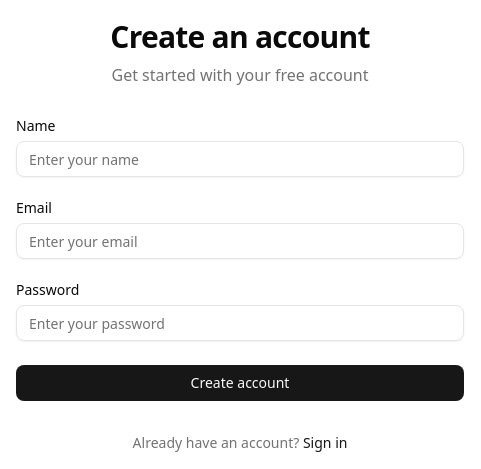
Auth Integration › Register Flow › navigates from register to login
This screenshot has width=481, height=469.
Expected: the heading "Create an account" is shown, [110,16,370,57]
Step 1. Click the link "Sign in" → (325, 442), box [303,433,347,452]
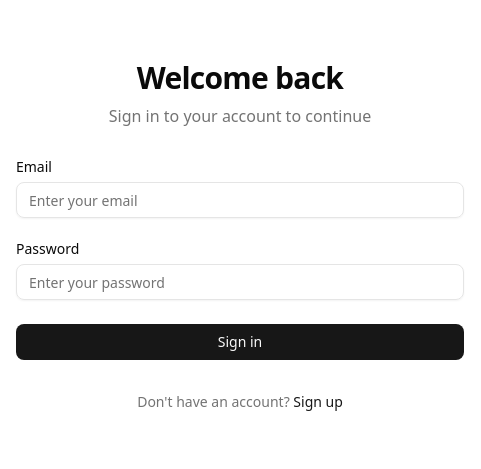
Now the heading "Welcome back" is shown, box [137,57,343,98]
